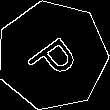P_NE: (21, 25, 84, 85)
